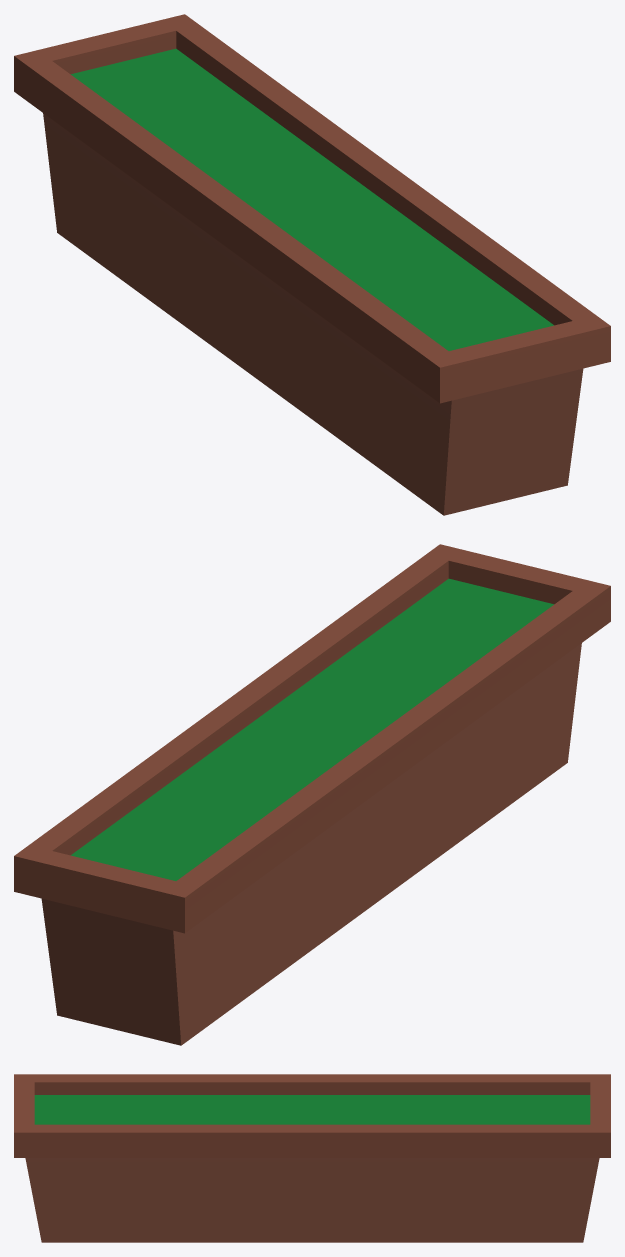
The model's file is FlowerPot_5_1_G.fbx.
3 views of the same model, one above another, from view 1: azimuth 30°, elevation 25°; view 2: azimuth 150°, elevation 25°; view 3: azimuth 270°, elevation 25° (orthographic). The views are drawn at different scales.
Visible parts, largest first — view 1: FlowerPot_5_1_G; view 2: FlowerPot_5_1_G; view 3: FlowerPot_5_1_G.
Boxes of the visible parts, <box> form: FlowerPot_5_1_G: <box>14,14,610,515</box>; FlowerPot_5_1_G: <box>14,544,610,1045</box>; FlowerPot_5_1_G: <box>14,1074,610,1242</box>.
Size of the model in its own units: 32.46 by 30.52 by 140.
